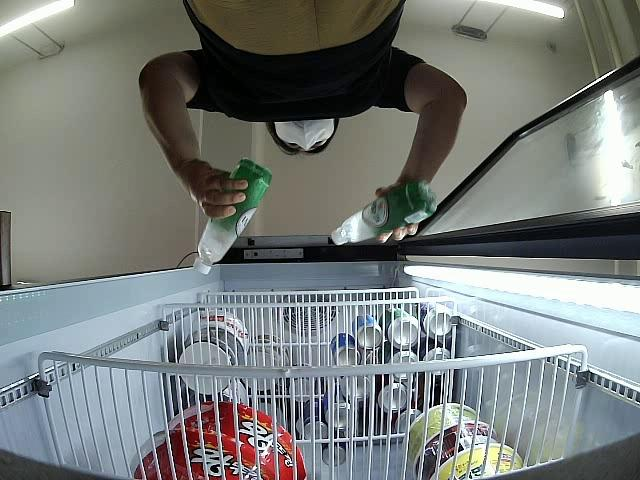00_hand: (186, 156, 253, 220), (371, 181, 424, 243)
18_trevi: (194, 154, 271, 279), (329, 181, 434, 246)
